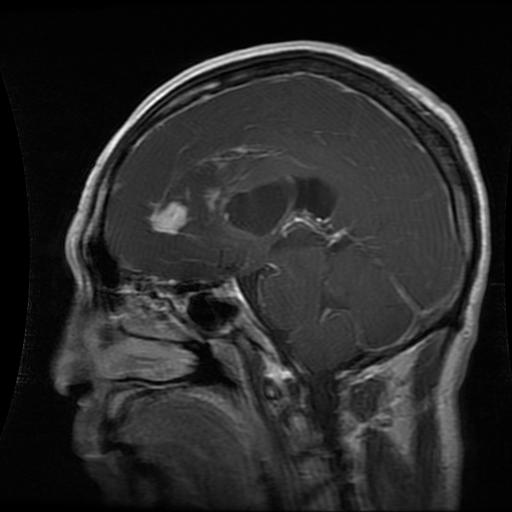Gliomia_tumour: (146, 159, 355, 254)
